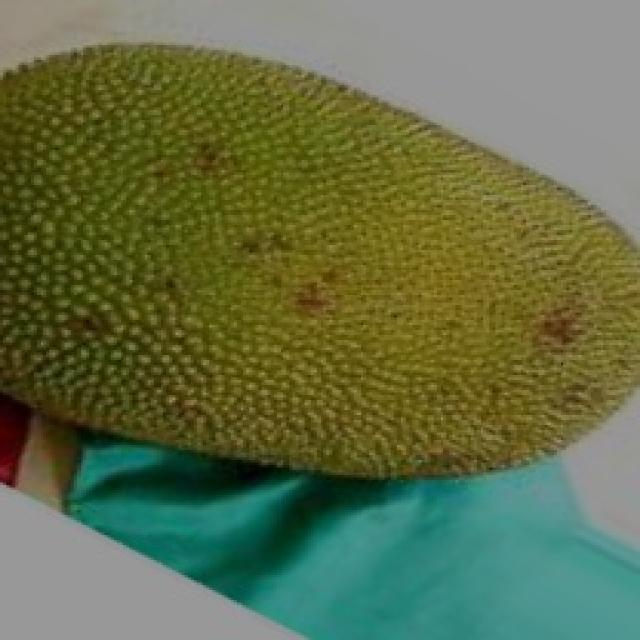Fruit: (0, 15, 412, 340), (271, 20, 640, 345)
